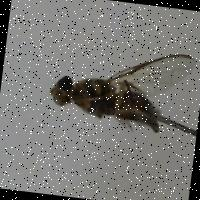Oriental-fruit-fly: (40, 33, 200, 143)
